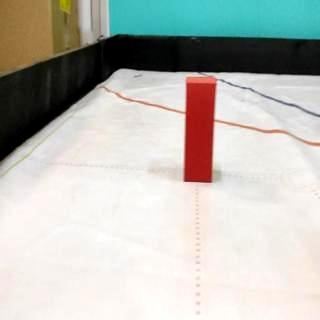redbox: (185, 77, 216, 184)
